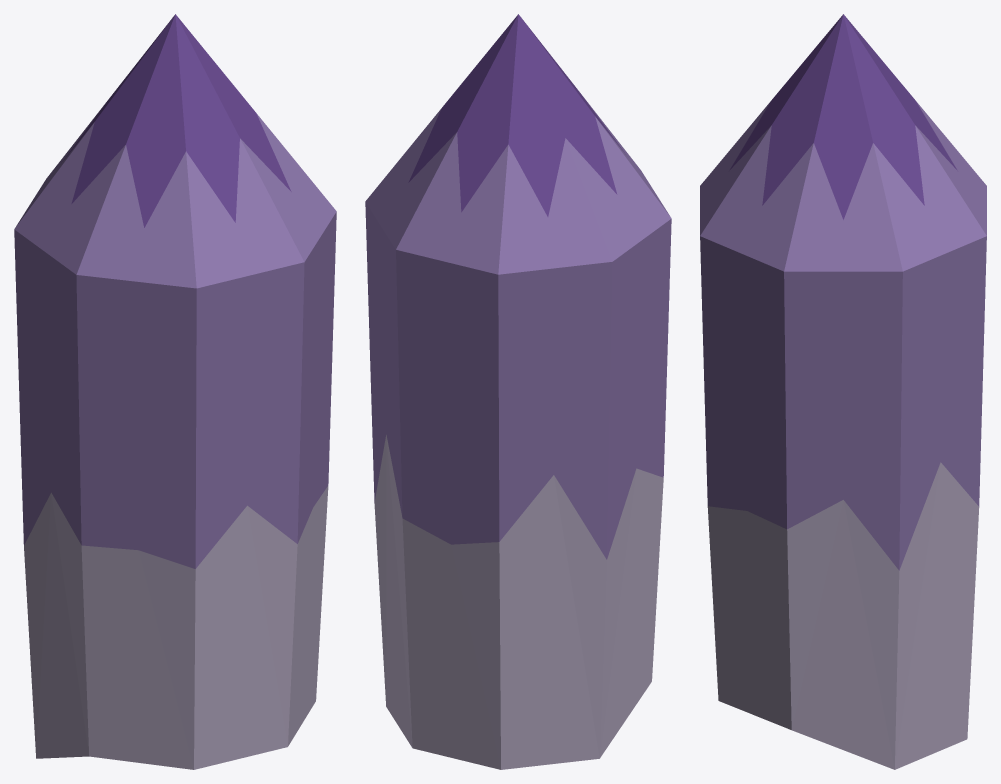
Rendered from rough-amethyst-point-0c6186.glb.
The picture shows the model from 3 angles, left to right: view 1: azimuth 30°, elevation 25°; view 2: azimuth 150°, elevation 25°; view 3: azimuth 270°, elevation 25°; orthographic projection. The views are drawn at different scales.
Parts seen in each view (by area): view 1: crystal; view 2: crystal; view 3: crystal.
Part boxes in pixels (x1,y1,x2,y2): crystal: (14, 14, 336, 769); crystal: (365, 14, 671, 769); crystal: (700, 14, 986, 769).
Size of the model in its own units: 0.0554 by 0.15 by 0.0554.
